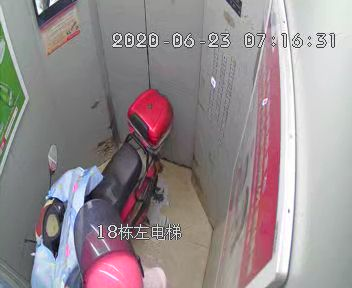Electric-bicycle: (38, 89, 172, 260)
